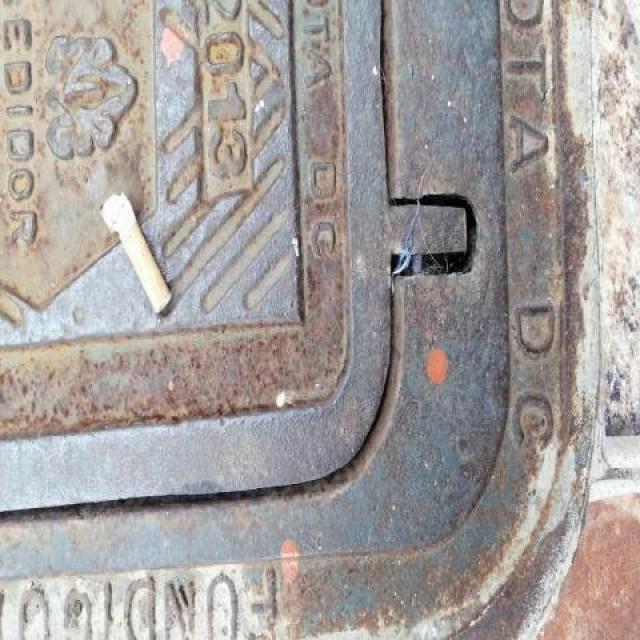non-organic waste: (97, 189, 175, 318)
